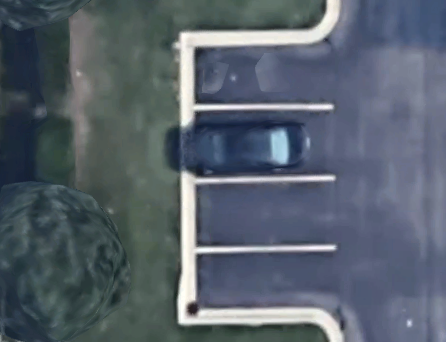Occupied: (190, 107, 334, 179)
Vacant: (190, 180, 334, 249), (188, 249, 334, 315), (190, 40, 333, 107)
